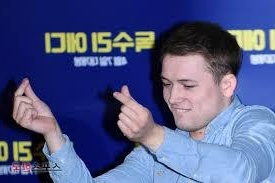oneheart: (9, 78, 62, 132), (107, 86, 158, 137)
